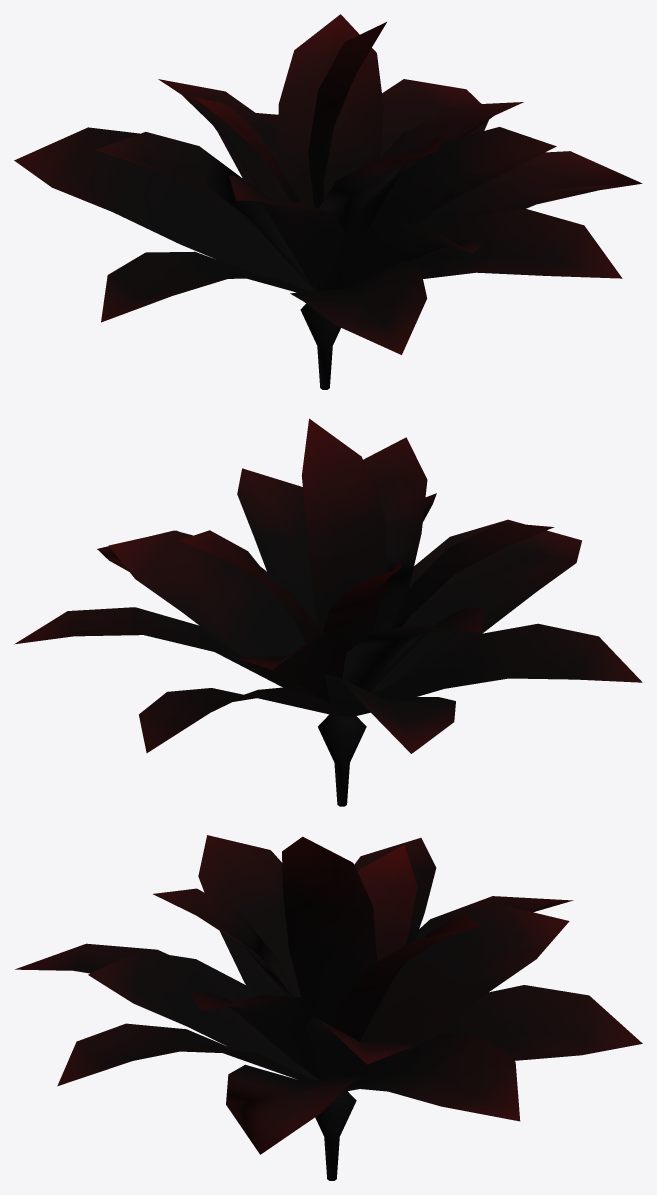
The model's file is TAI_Plant_01A.fbx.
The picture shows the model from 3 angles, top to bottom: view 1: azimuth 30°, elevation 25°; view 2: azimuth 150°, elevation 25°; view 3: azimuth 270°, elevation 25°; orthographic projection.
Parts seen in each view (by area): view 1: TAI_Plant_01A_LOD0; view 2: TAI_Plant_01A_LOD0; view 3: TAI_Plant_01A_LOD0.
Part boxes in pixels (x1,y1,x2,y2): TAI_Plant_01A_LOD0: (14, 14, 642, 389); TAI_Plant_01A_LOD0: (14, 418, 642, 806); TAI_Plant_01A_LOD0: (15, 835, 642, 1180).
Size of the model in its own units: 177 by 113 by 176.
